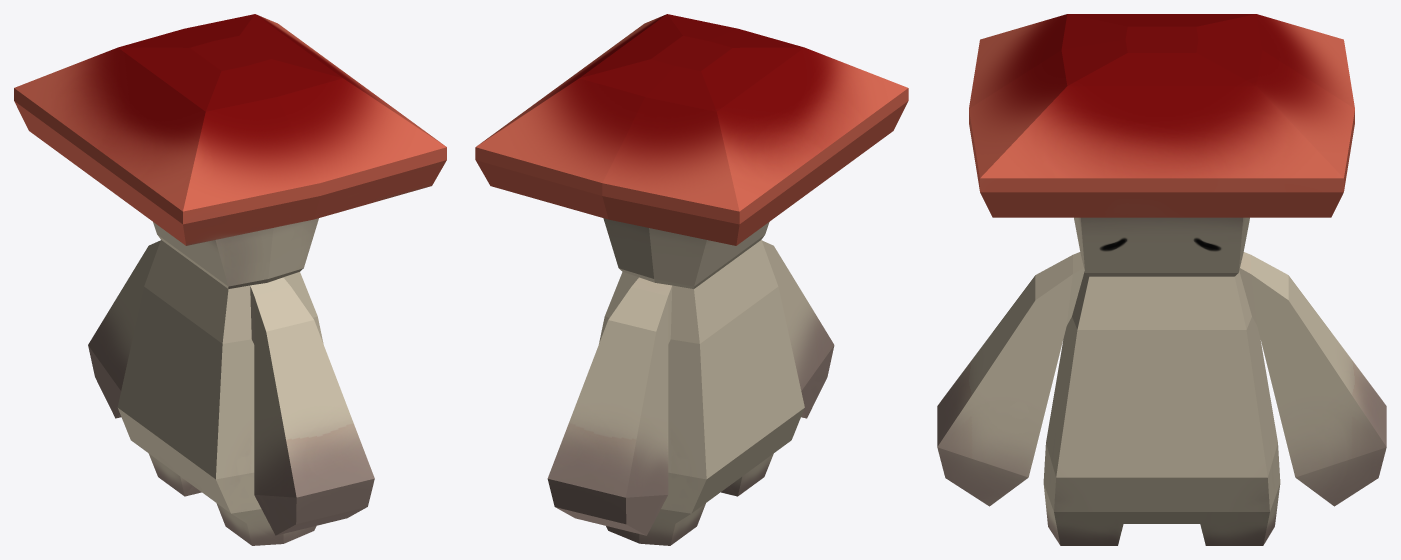
File: juvie mush.fbx
3 views of the same model, side by side, from view 1: azimuth 30°, elevation 25°; view 2: azimuth 150°, elevation 25°; view 3: azimuth 270°, elevation 25° (orthographic). The views are drawn at different scales.
Visible parts, largest first — view 1: Cube; view 2: Cube; view 3: Cube.
Boxes of the visible parts, <box> form: Cube: <box>14,14,446,545</box>; Cube: <box>475,14,908,545</box>; Cube: <box>937,14,1386,545</box>.
Bounding box in the file's own units: 1112 × 1818 × 1521.
1 material, 1 textured.
